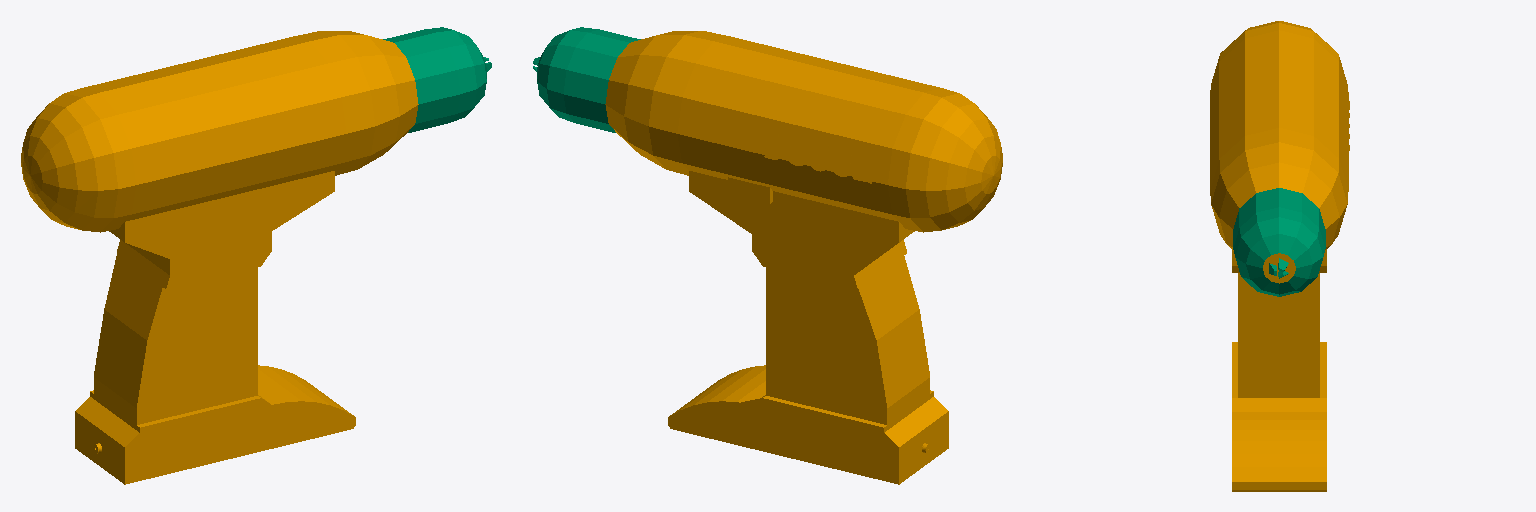
The robot description file, URDF, robot "porter_cable":
<?xml version="1.0"?>
<robot name="porter_cable">
  <link name="base">
    <visual>
      <geometry>
        <mesh filename="assets/base.obj" />
      </geometry>
    </visual>
  </link>
  <link name="trigger">
    <visual>
      <geometry>
        <mesh filename="assets/trigger.obj" />
      </geometry>
    </visual>
  </link>
  <joint name="base_to_trigger" type="fixed">
    <parent link="base"/>
    <child link="trigger"/>
  </joint>
  <link name="chuck">
    <visual>
      <geometry>
        <mesh filename="assets/chuck.obj" />
      </geometry>
    </visual>
  </link>
  <joint name="base_to_chuck" type="fixed">
    <parent link="base"/>
    <child link="chuck"/>
  </joint>
  <link name="bit">
    <visual>
      <geometry>
        <mesh filename="assets/bit.obj" />
      </geometry>
    </visual>
  </link>
  <joint name="chuck_to_bit" type="fixed">
    <parent link="chuck"/>
    <child link="bit"/>
  </joint>
</robot>

--- What the picture shows (computed from the rendered views, not written in the file) ---
3 views of the same robot in one strip: view 1: azimuth 30°, elevation 25°; view 2: azimuth 150°, elevation 25°; view 3: azimuth 270°, elevation 25° (orthographic).
Robot: porter_cable — 4 links, 3 joints (3 fixed); root link base; default pose: all joints at 0.
Visible links, largest first — view 1: base, chuck; view 2: base, chuck; view 3: base, chuck.
Link boxes in pixels (bbox=[...]): base: bbox=[21, 31, 418, 484]; chuck: bbox=[383, 27, 491, 132]; base: bbox=[605, 31, 1002, 484]; chuck: bbox=[533, 27, 640, 132]; base: bbox=[1210, 21, 1349, 491]; chuck: bbox=[1233, 188, 1325, 296].
Size in the robot's own frame: 0.2182 by 0.0605 by 0.17 metres.
Meshes: 4 distinct files referenced, 3 mesh visuals loaded (3 OBJ); not drawn: 1 (reference not matched to a file when rendering).